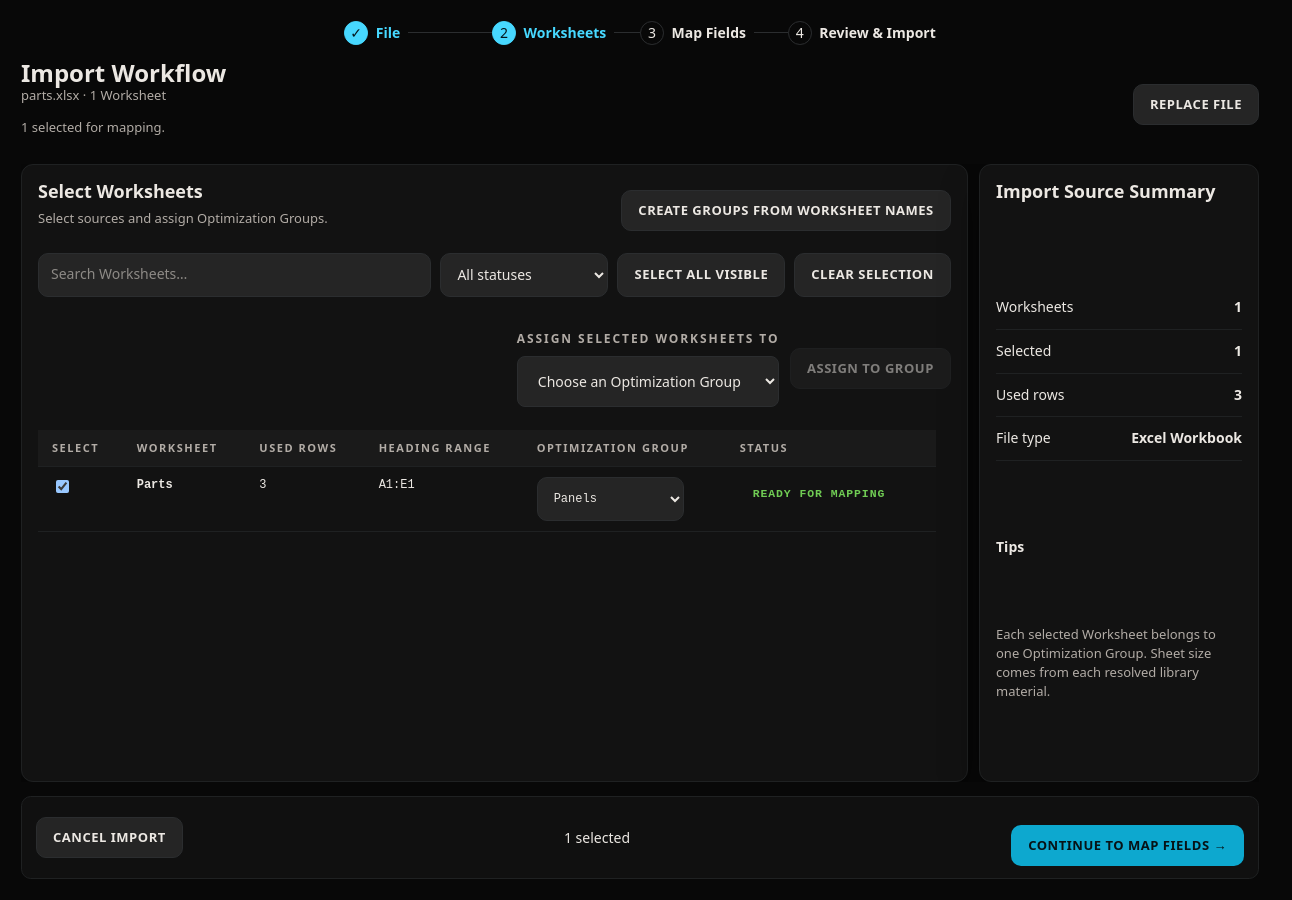
Test: Sheet Project Import Workflow › blocks Review until every exact material label is resolved
Click the button "Continue to Map Fields →" at (1128, 846), box left=1011, top=825, right=1244, bottom=866
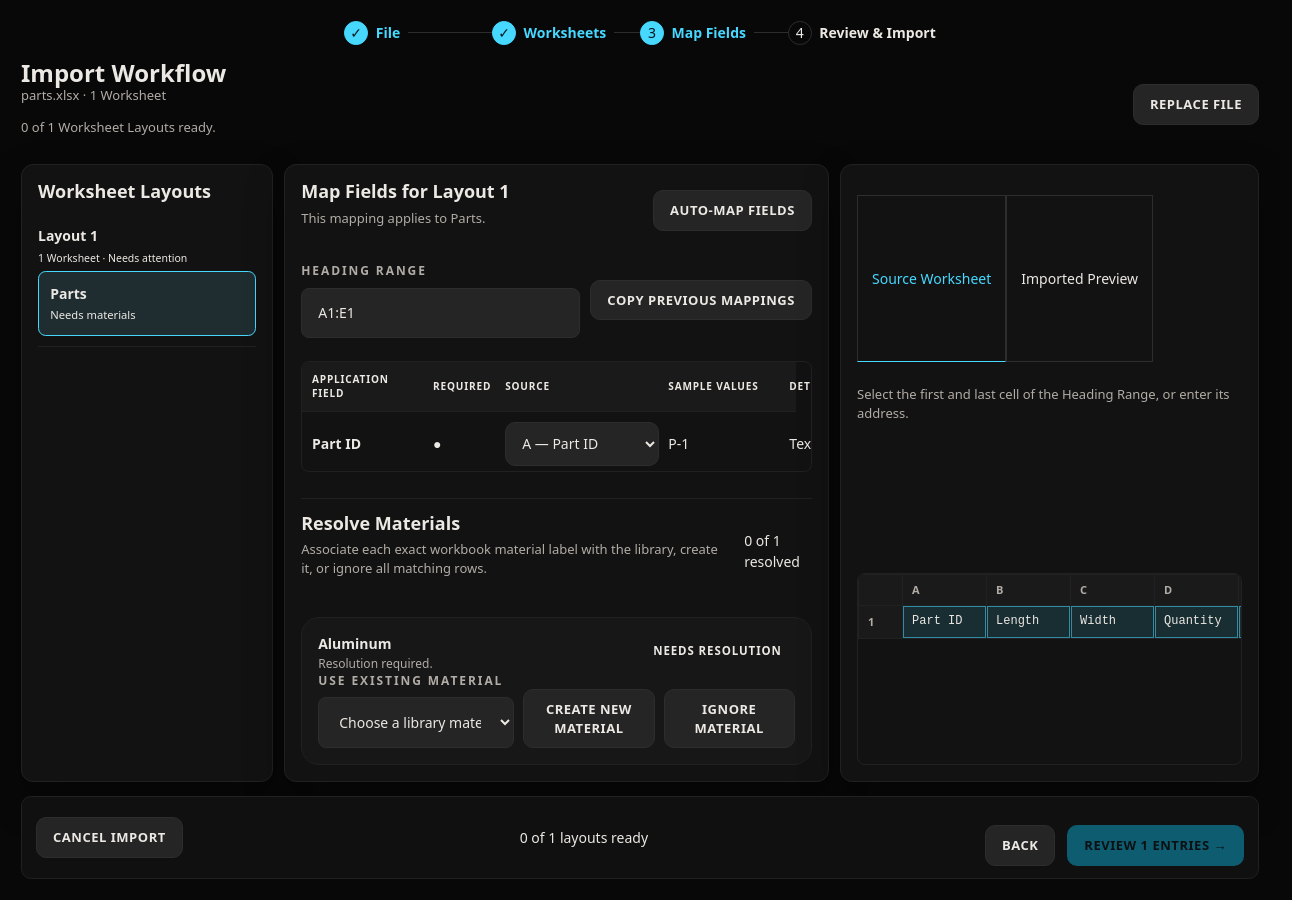
Check: the text "0 of 1 resolved" is shown, box left=744, top=531, right=800, bottom=571
Check: the button "Review 1 Entries →" is disabled, box left=1067, top=825, right=1244, bottom=866
